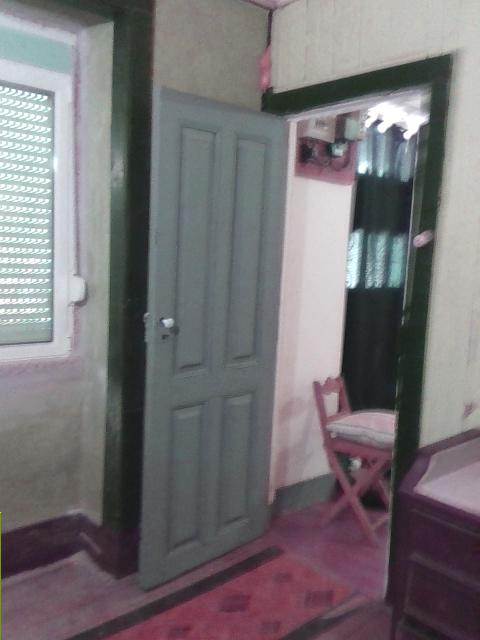open_door: (251, 48, 458, 613)
